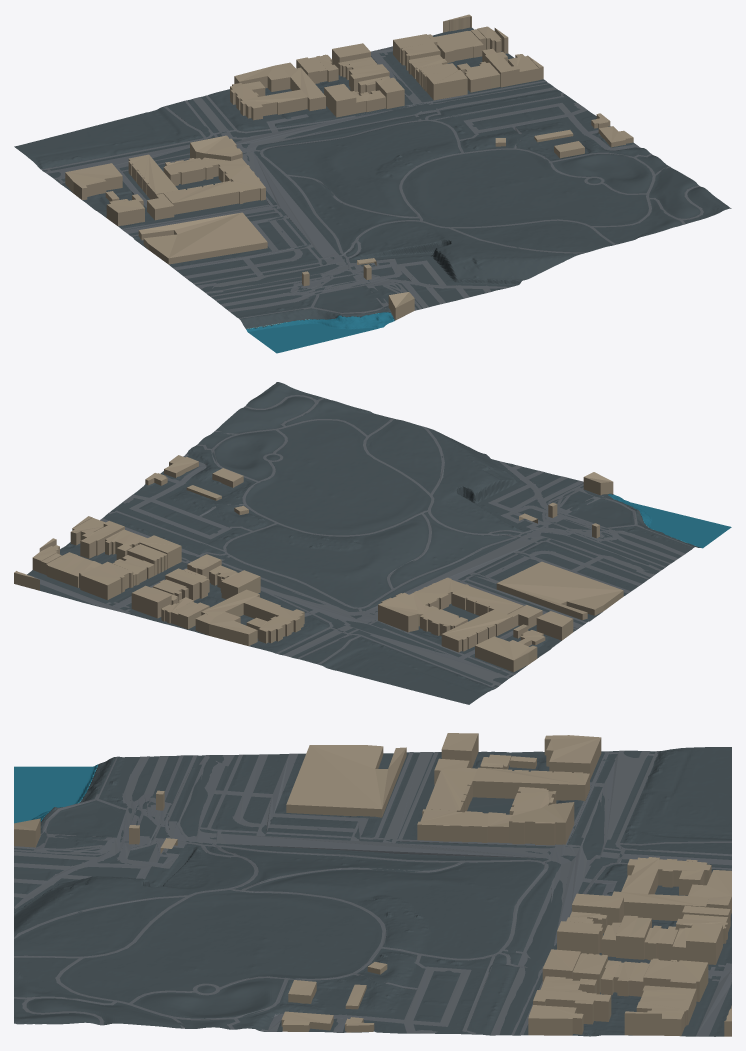
Rendered from epsg26910-1432-10896.lod0.glb.
The picture shows the model from 3 angles, top to bottom: view 1: azimuth 30°, elevation 25°; view 2: azimuth 150°, elevation 25°; view 3: azimuth 270°, elevation 25°; orthographic projection. The views are drawn at different scales.
Visible parts, largest first — view 1: epsg26910-1432-10896-lod0; view 2: epsg26910-1432-10896-lod0; view 3: epsg26910-1432-10896-lod0.
Part boxes in pixels (left/top/right/bottom): epsg26910-1432-10896-lod0: left=14, top=14, right=731, bottom=353; epsg26910-1432-10896-lod0: left=14, top=382, right=731, bottom=704; epsg26910-1432-10896-lod0: left=14, top=733, right=731, bottom=1036.
Bounding box in the file's own units: 384 × 33.44 × 384.
